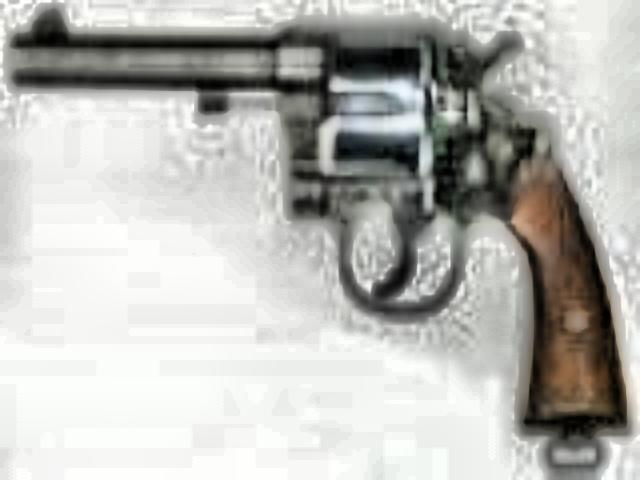pistol: (4, 0, 624, 428)
